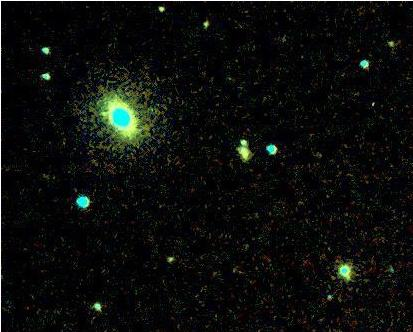star: (89, 99, 119, 129)
